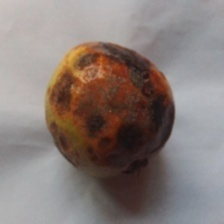guava: (32, 26, 195, 224)
